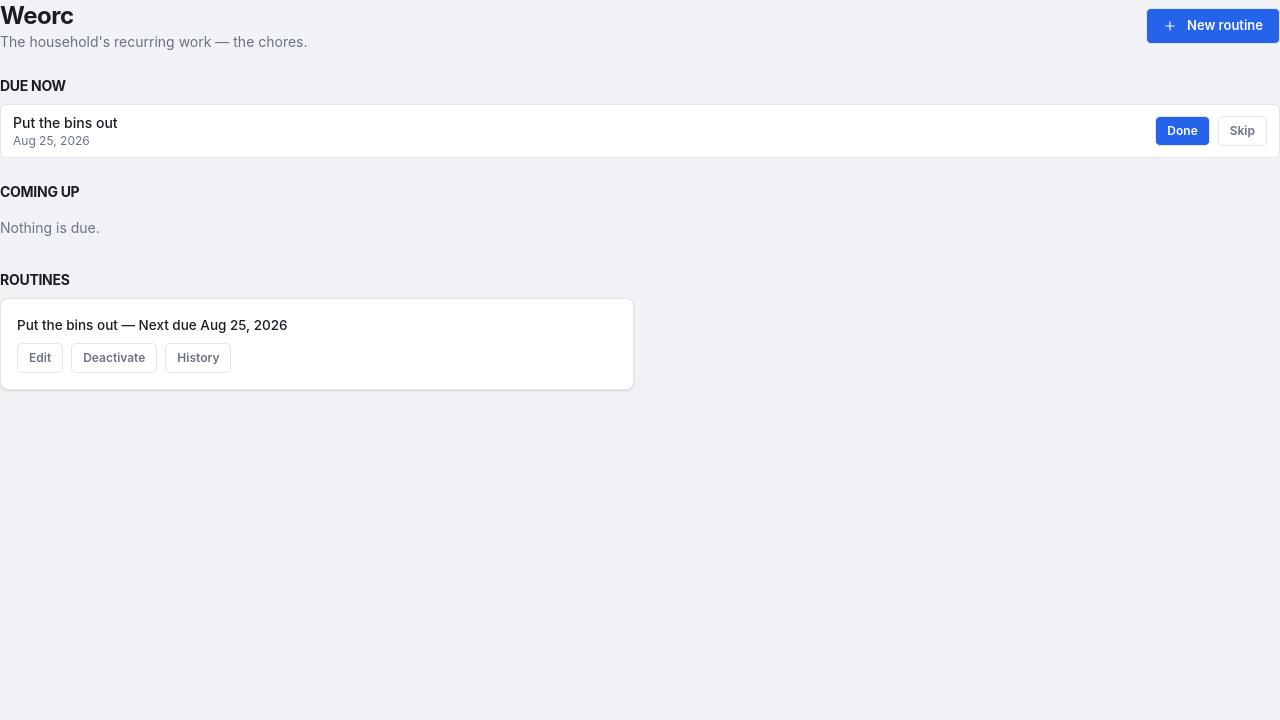
Test case: the Weorc page › tells the maker when an edit only applies from the next cycle
Click the button "Edit" at (40, 358), box [17,343,63,373]
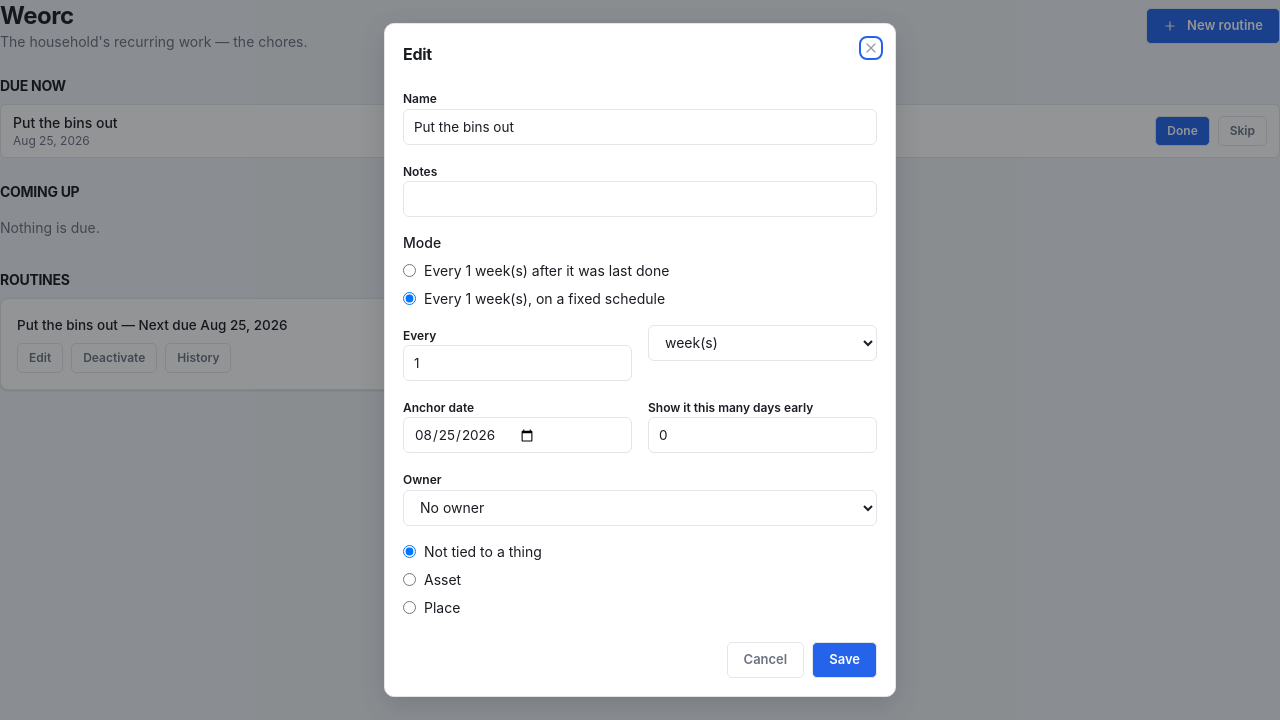
Replace the text in the number field labelled "Every" with "2" at (518, 363), box [403,345,632,381]
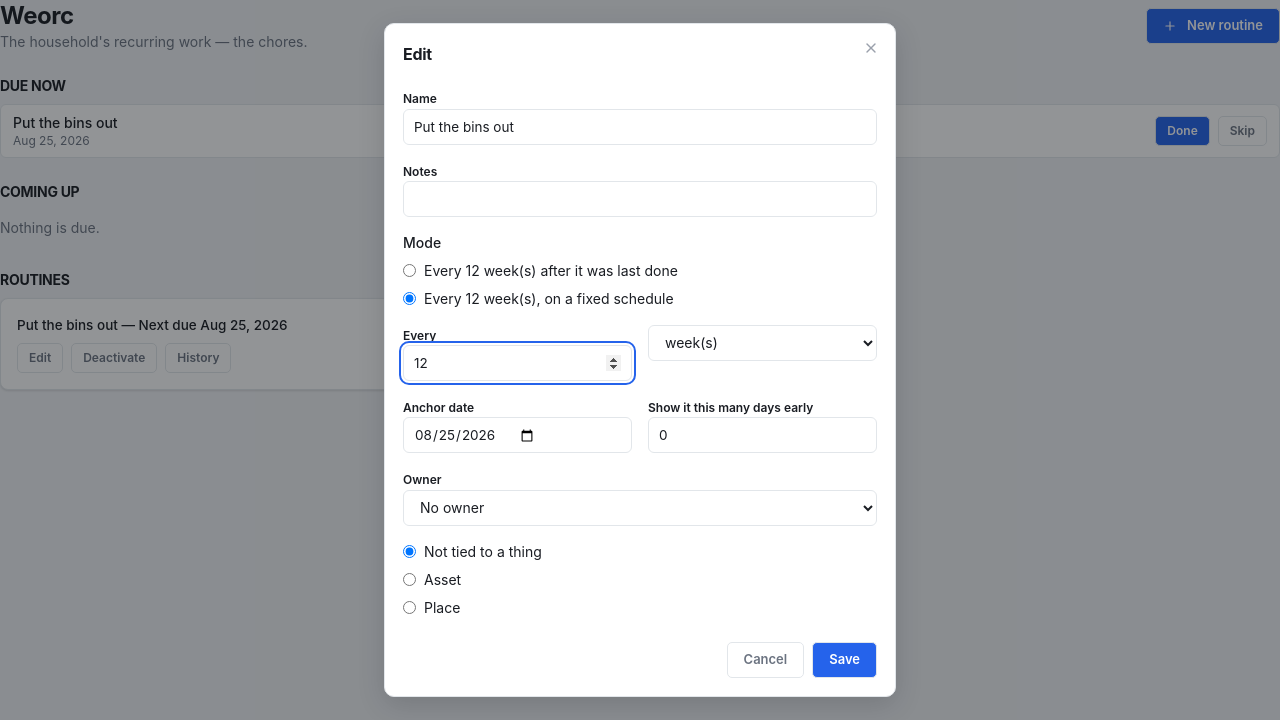
Click the button "Save" at (845, 660), box [812,642,877,678]
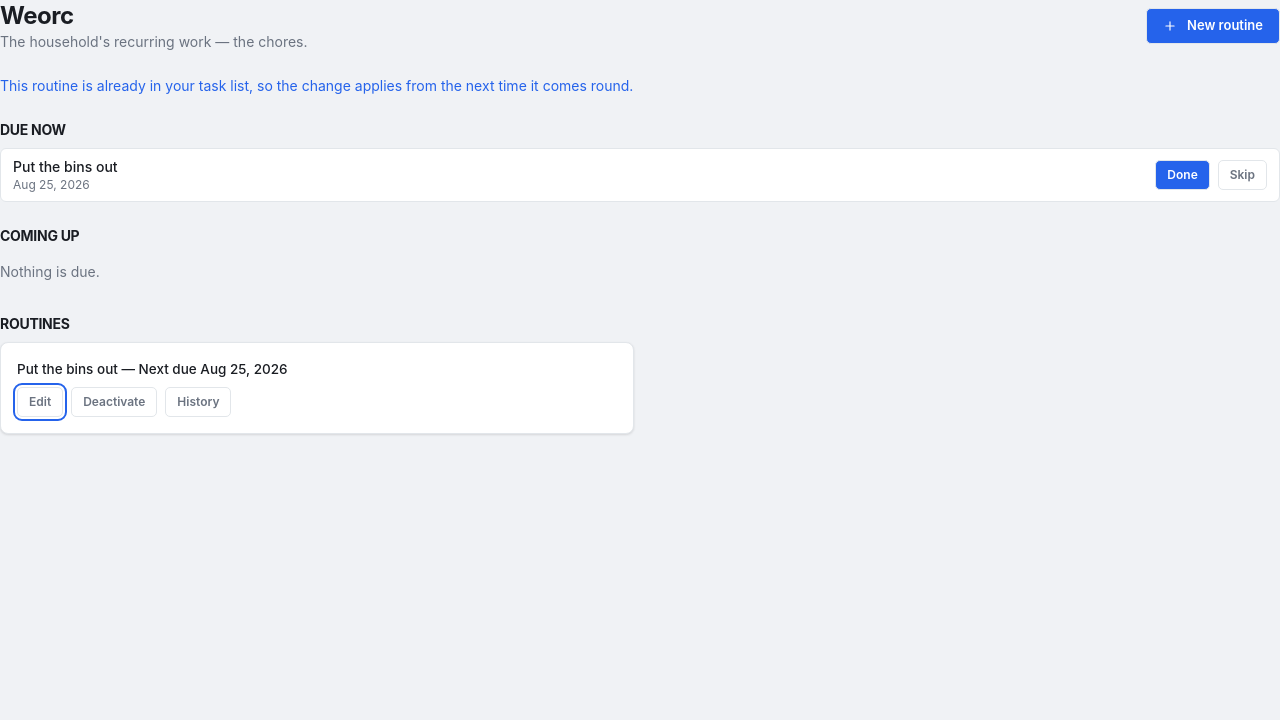
Check: the text "applies from the next time it comes round" is shown, box [0,77,633,94]
